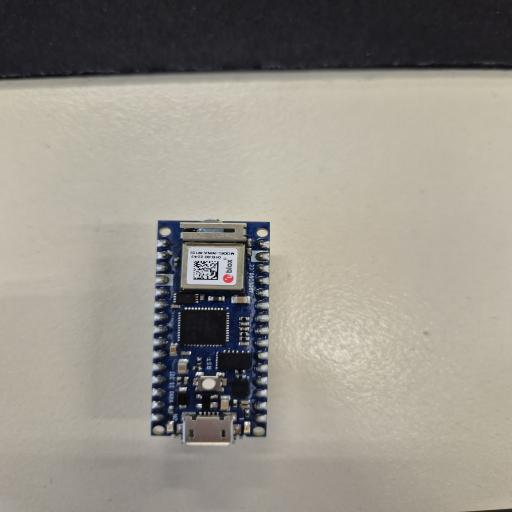arduino-nano-iot-33: (157, 219, 267, 440)
